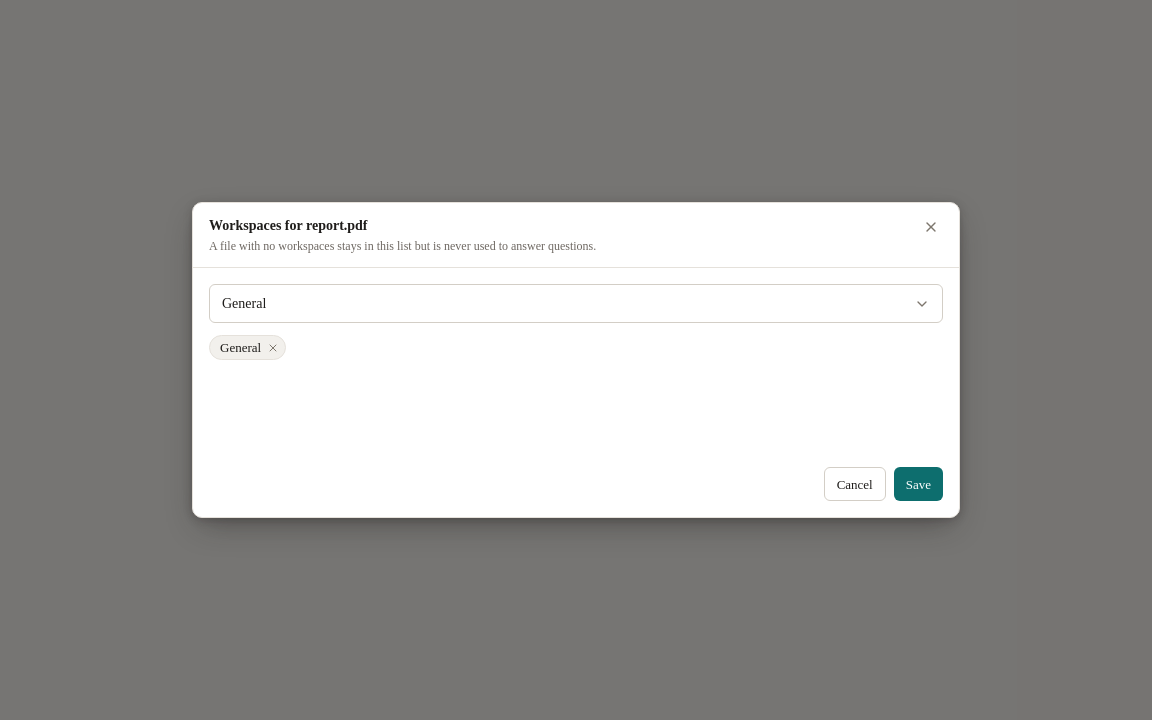
FileWorkspacesModal › says what an empty selection means
The width and height of the screenshot is (1152, 720).
Click the button named "Remove from General": point(273, 348) [265,340,281,356]
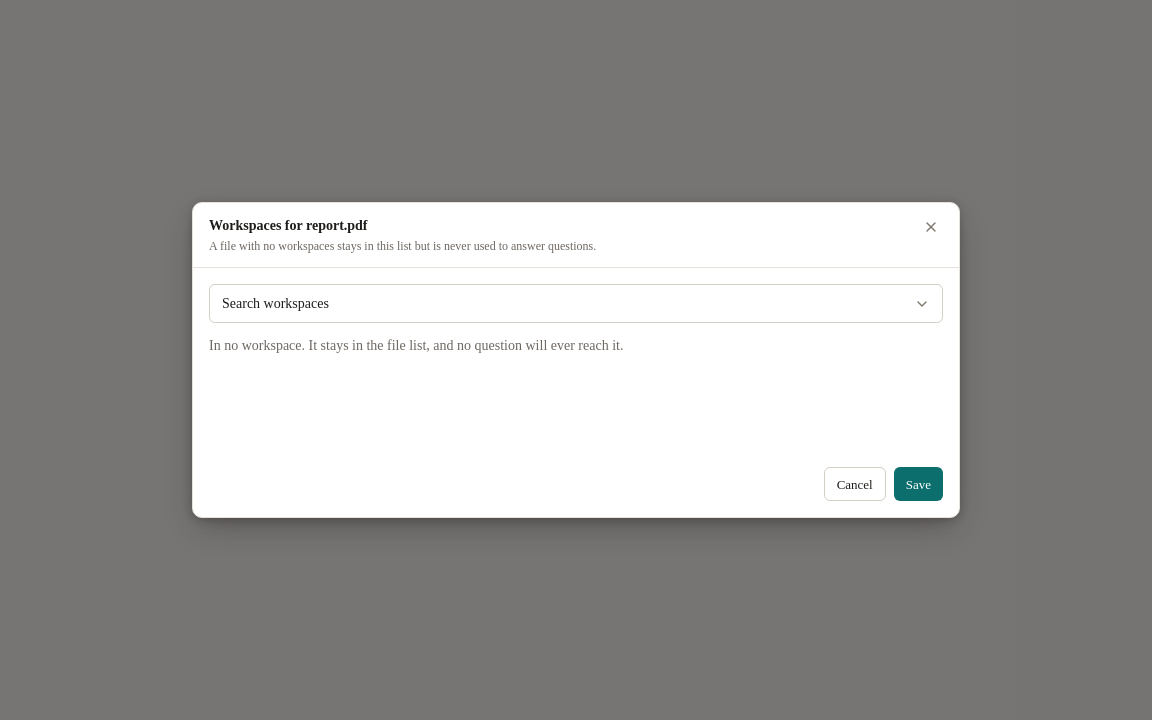
expect the text "no question will ever reach it" is shown: met, box [209,338,624,353]
